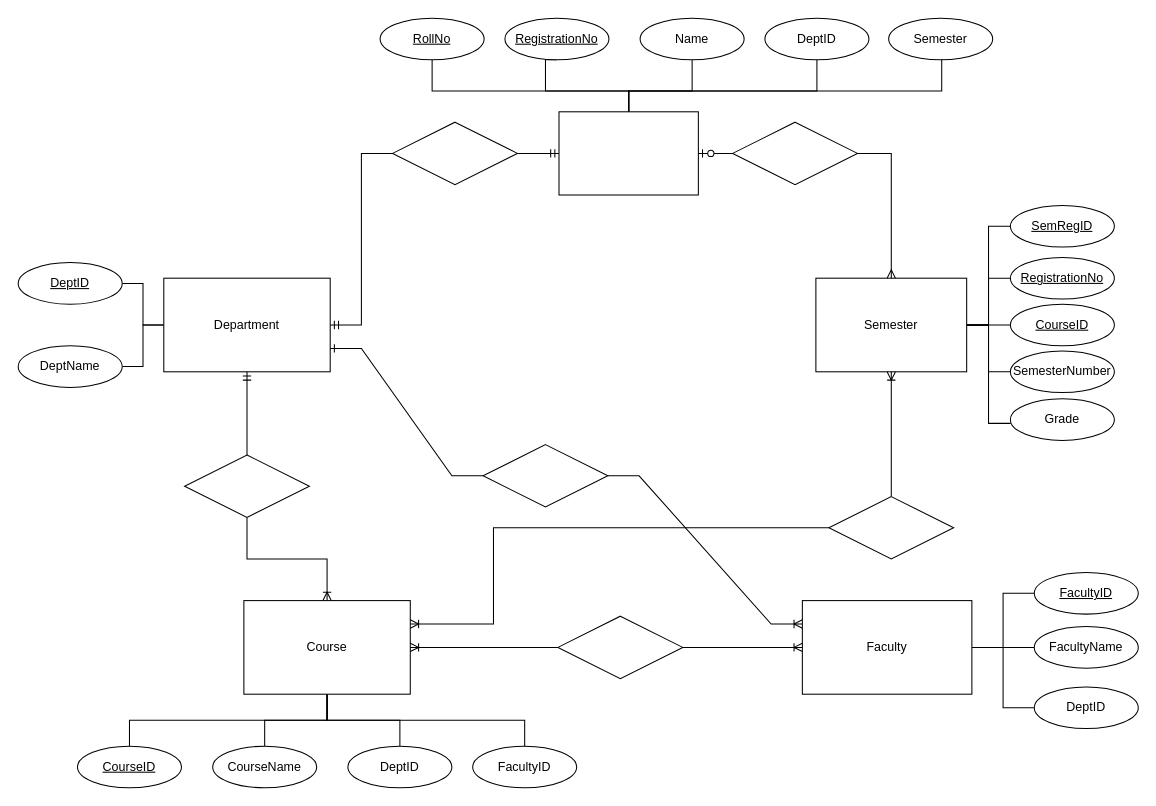
Some shapes in this 1156 by 806 pixel diagram are drawn without their labels. Here are the shapes that lost their labels. From the top down, the centre of each, then its label:
point (454, 153): Belongs to
point (628, 153): Student
point (794, 153): Registers for
point (246, 485): Offers
point (545, 475): Hosts
point (891, 527): Provides
point (620, 647): Teaches
